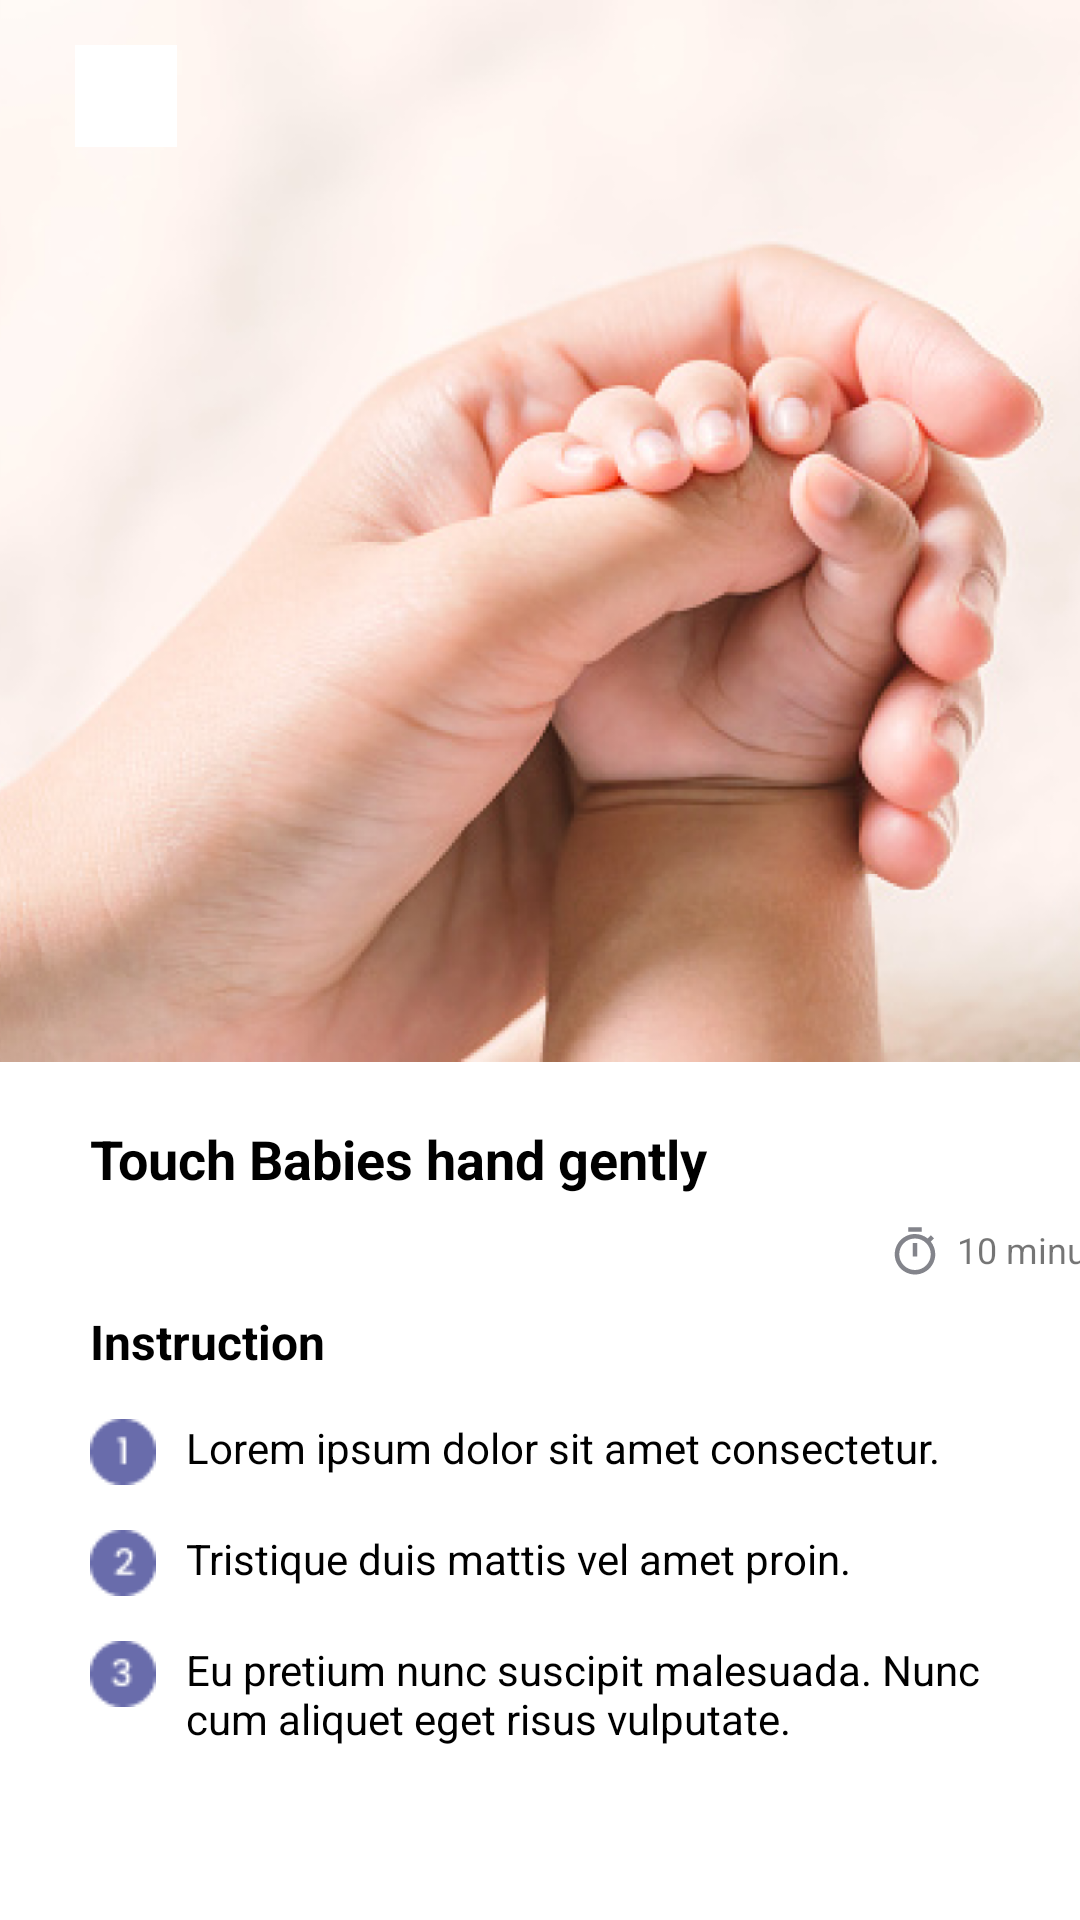

Icons on this 1080 × 1920 Android screen, each with its box as (x1, y1, x2, y2):
timer: (894, 1227, 936, 1275)
